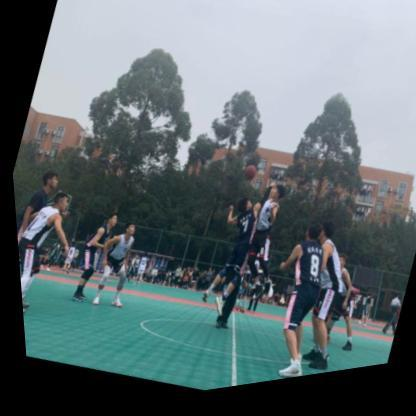basketball: (239, 171, 256, 190)
